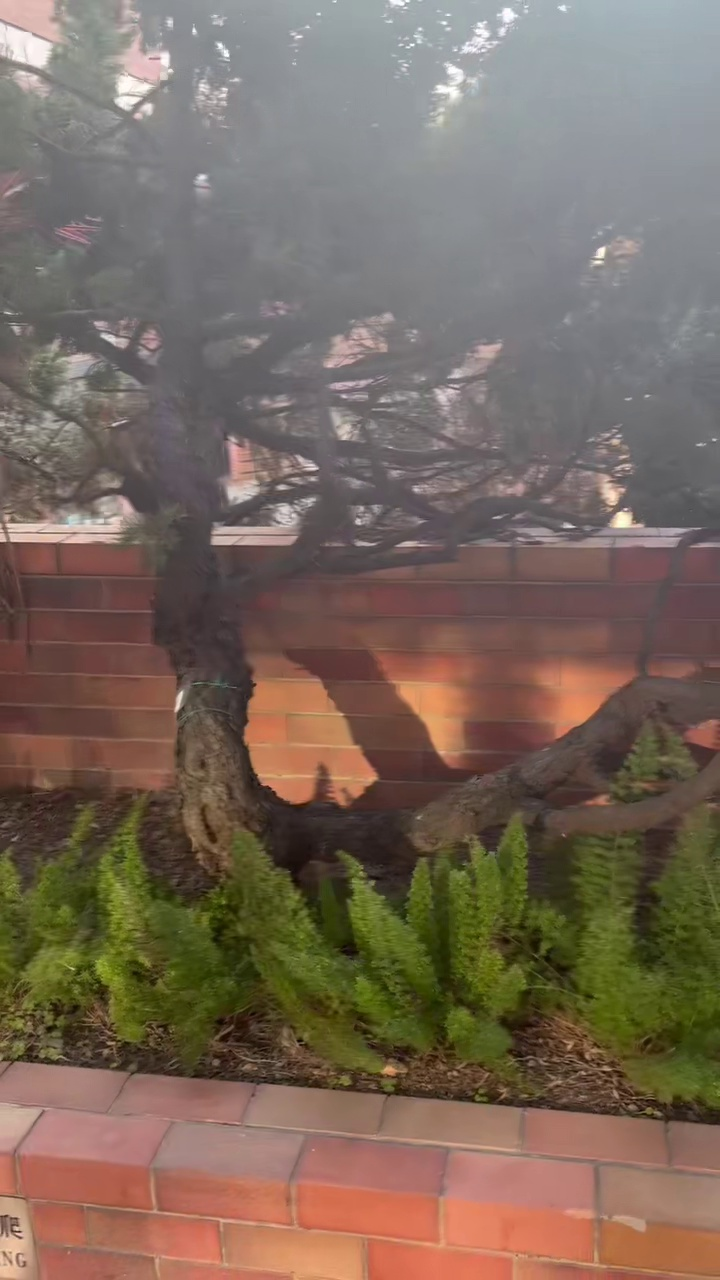Juniperus chinensis: (0, 0, 719, 865)
